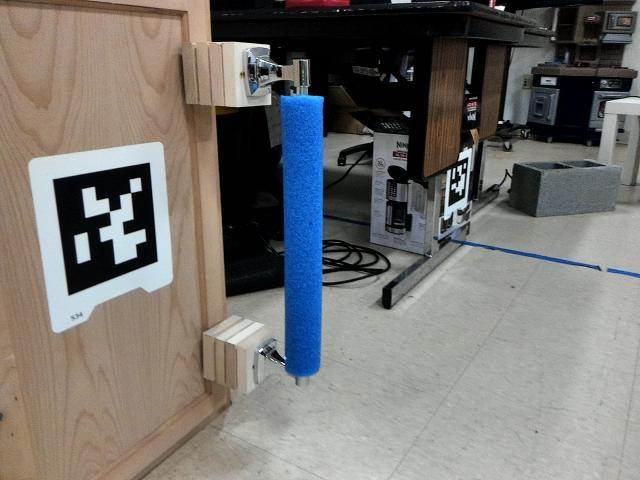noodle_handle: (265, 77, 337, 386)
